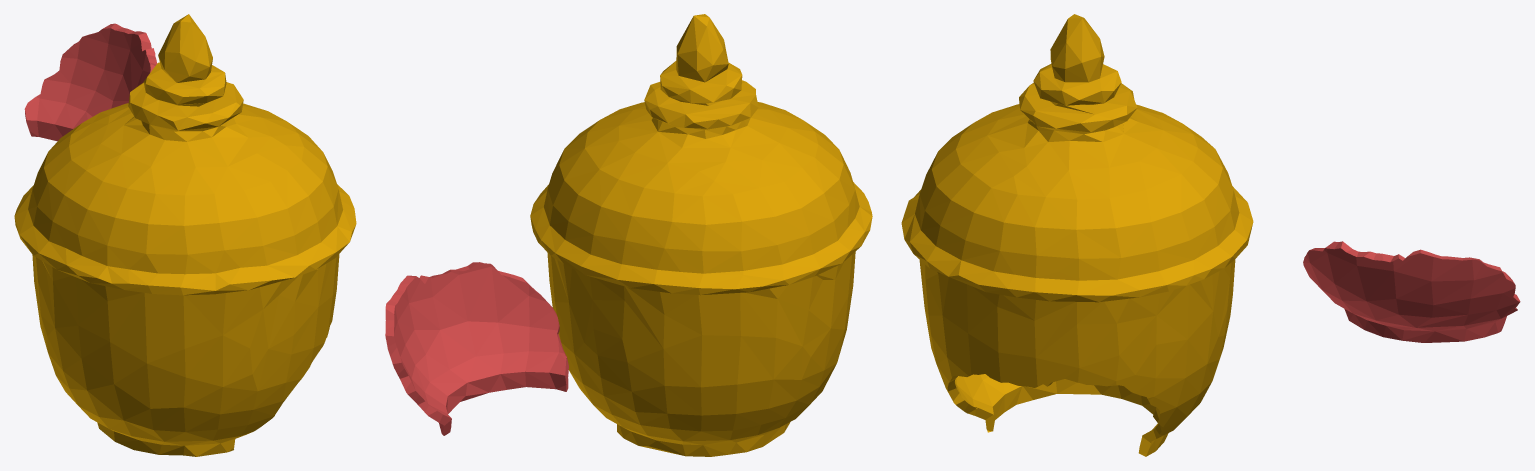
File: fractured_29_2pcs_transformed.glb
3 renders of one model, left to right at view 1: azimuth 30°, elevation 25°; view 2: azimuth 150°, elevation 25°; view 3: azimuth 270°, elevation 25°, orthographic. The views are drawn at different scales.
Parts seen in each view (by area): view 1: piece_0.obj, piece_1.obj; view 2: piece_0.obj, piece_1.obj; view 3: piece_0.obj, piece_1.obj.
Boxes of the visible parts, x1,y1,x2,y2 form: piece_0.obj: [14, 14, 356, 456]; piece_1.obj: [24, 23, 156, 141]; piece_0.obj: [530, 14, 872, 456]; piece_1.obj: [385, 262, 568, 435]; piece_0.obj: [901, 14, 1253, 456]; piece_1.obj: [1303, 241, 1520, 342].
Size of the model in its own units: 0.7658 by 1 by 1.35.
